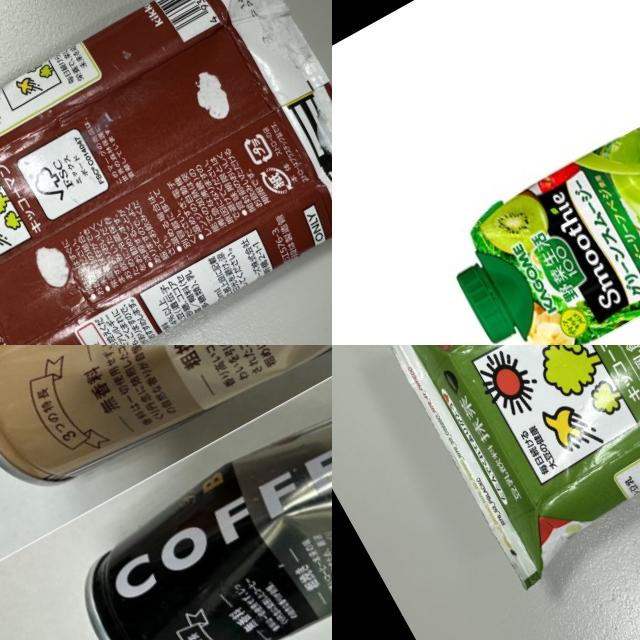Aluminium Foil: (0, 0, 332, 345), (379, 345, 640, 593), (425, 103, 640, 345)
Can: (52, 345, 332, 640), (0, 345, 332, 523)
